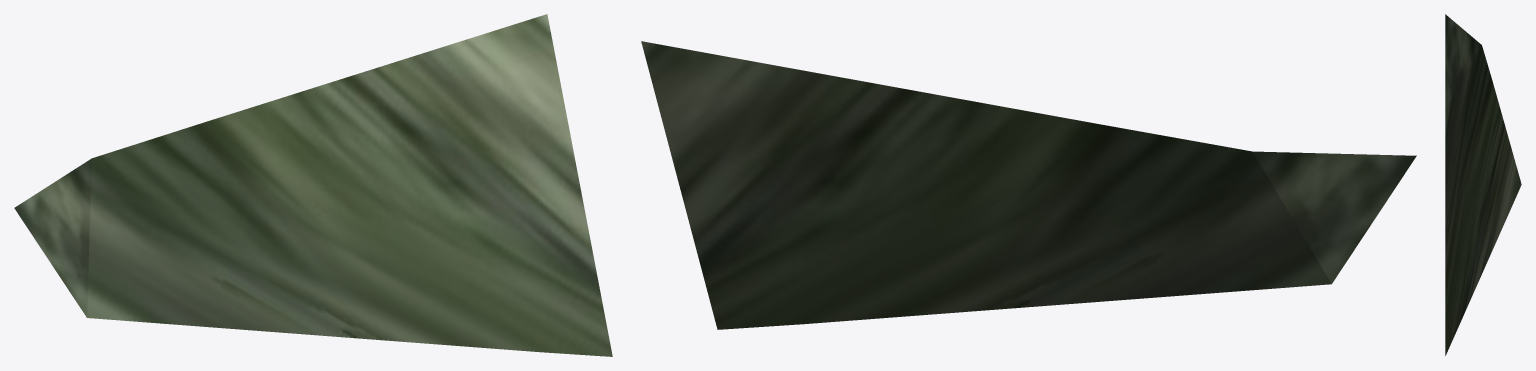
The picture shows the model from 3 angles, left to right: view 1: azimuth 30°, elevation 25°; view 2: azimuth 150°, elevation 25°; view 3: azimuth 270°, elevation 25°; orthographic projection. The views are drawn at different scales.
Bounding box in the file's own units: 2.64 × 1.24 × 0.4998.
Materials: 1 (1 with a texture image).
